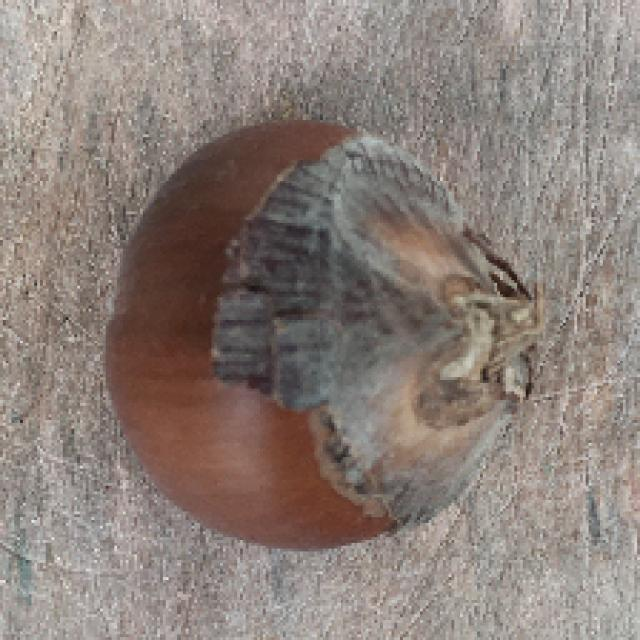damagedHazelnut: (95, 116, 542, 550)
